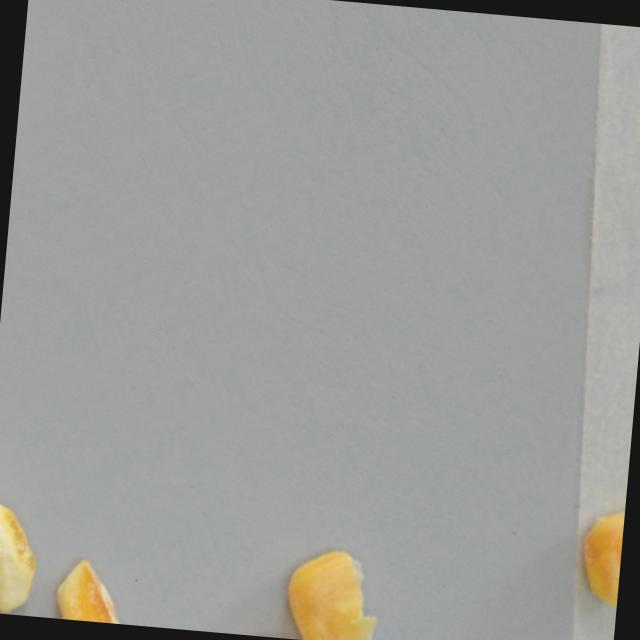pelicula: (280, 548, 381, 640), (49, 558, 133, 624), (0, 502, 45, 616)
